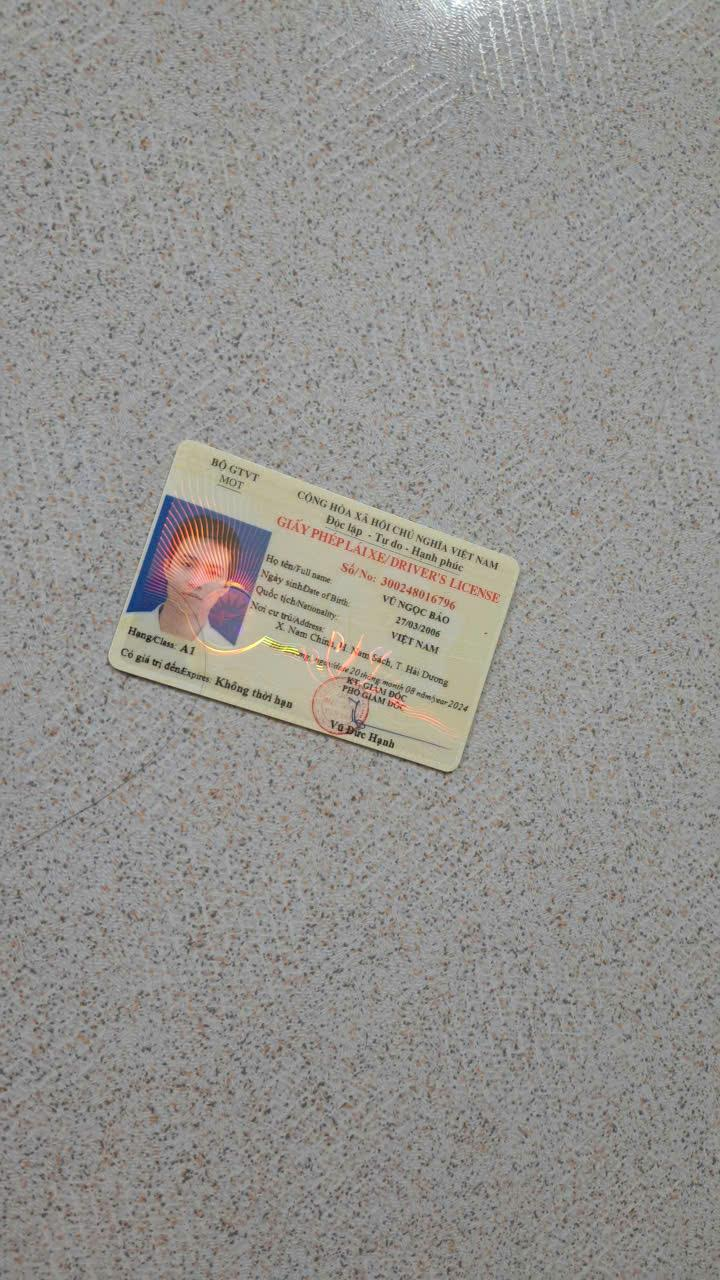gplx: (98, 433, 528, 782)
